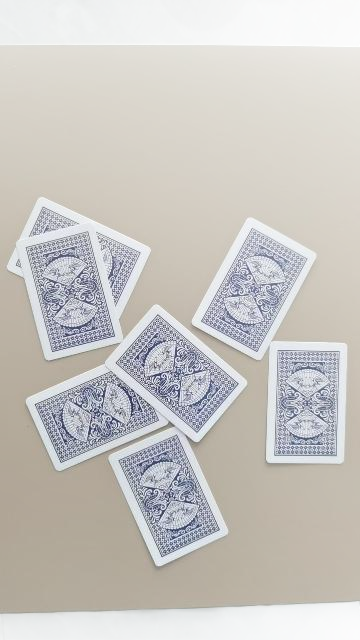card: (105, 305, 246, 441), (191, 218, 316, 360), (109, 428, 228, 566), (21, 198, 150, 315), (26, 365, 168, 471), (16, 222, 122, 360), (266, 342, 346, 463), (8, 251, 22, 275)
